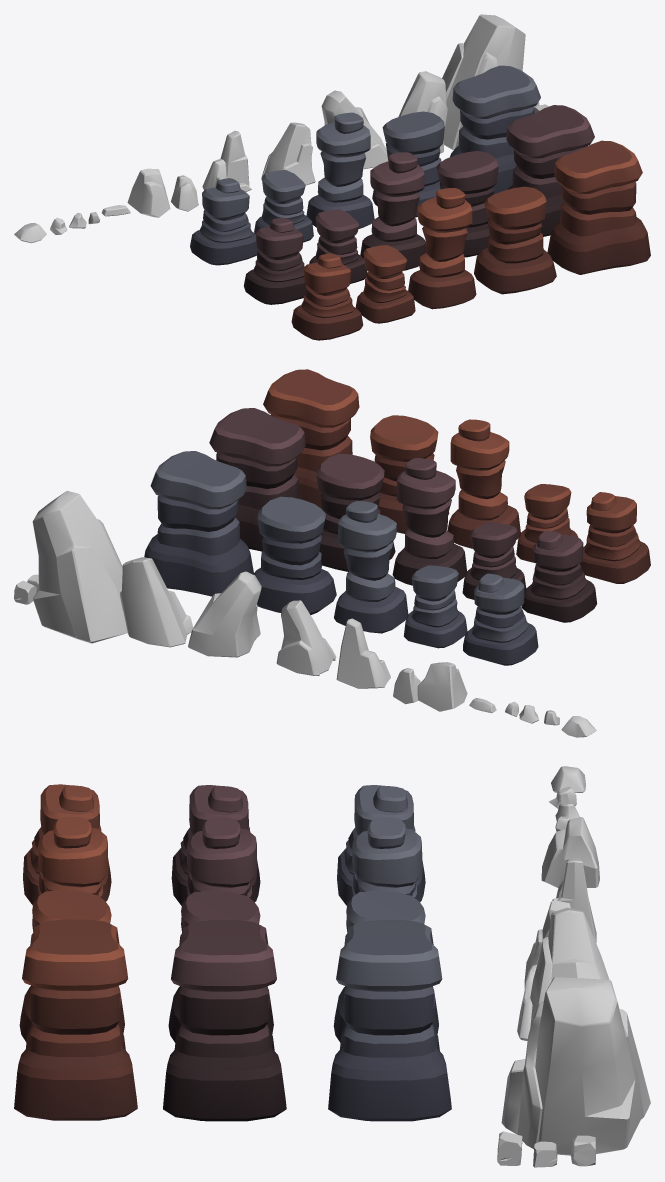
The model's file is RocksPack.fbx.
The picture shows the model from 3 angles, top to bottom: view 1: azimuth 30°, elevation 25°; view 2: azimuth 150°, elevation 25°; view 3: azimuth 270°, elevation 25°; orthographic projection. The views are drawn at different scales.
Visible parts, largest first — view 1: rock_big_B_5, rock_big_B_4, rock_big_B_gray_5, rock_big_B_3, rock_big_B_dark_5, rock_big_B_gray_3, rock_big_B_dark_3, rock_big_3, rock_big_B_1, rock_big_B_gray_1, Cube.010, rock_big_B_dark_4 (+10 smaller); view 2: rock_big_B_gray_5, rock_big_3, rock_big_B_dark_5, rock_big_B_gray_4, rock_big_B_gray_3, rock_big_B_5, rock_big_B_dark_3, rock_big_B_3, rock_big_B_gray_1, Cube.010, rock_big_B_1, rock_big_2 (+11 smaller); view 3: rock_big_B_dark_5, rock_big_B_gray_5, rock_big_B_5, rock_big_3, rock_big_1, rock_big_B_gray_3, rock_big_B_dark_3, rock_big_B_3, rock_big_B_gray_1, rock_big_B_1, Cube.010, rock_big_B_4 (+9 smaller).
Part boxes in pixels (x1,y1,x2,y2): rock_big_B_5: (547,140,650,274); rock_big_B_4: (474,186,556,294); rock_big_B_gray_5: (450,65,540,194); rock_big_B_3: (408,188,476,309); rock_big_B_dark_5: (506,105,594,236); rock_big_B_gray_3: (306,112,374,228); rock_big_B_dark_3: (360,152,426,270); rock_big_3: (442,14,525,149); rock_big_B_1: (291,253,363,340); rock_big_B_gray_1: (190,178,257,265); Cube.010: (244,217,305,304); rock_big_B_dark_4: (436,151,498,257); rock_big_B_gray_5: (144,451,253,596); rock_big_3: (32,490,127,643); rock_big_B_dark_5: (209,408,305,551); rock_big_B_gray_4: (253,496,336,614); rock_big_B_gray_3: (334,501,408,633); rock_big_B_5: (263,369,359,508); rock_big_B_dark_3: (392,458,466,585); rock_big_B_3: (447,419,520,548); rock_big_B_gray_1: (463,573,538,665); Cube.010: (521,530,597,622); rock_big_B_1: (580,492,650,583); rock_big_2: (120,557,193,647); rock_big_B_dark_5: (163,920,286,1121); rock_big_B_gray_5: (328,920,451,1121); rock_big_B_5: (14,919,137,1120); rock_big_3: (501,977,650,1155); rock_big_1: (517,907,609,1040); rock_big_B_gray_3: (344,817,422,945); rock_big_B_dark_3: (179,817,256,945); rock_big_B_3: (30,817,108,944); rock_big_B_gray_1: (337,785,425,905); rock_big_B_1: (23,784,111,905); Cube.010: (171,785,260,905); rock_big_B_4: (19,890,124,1041).
Bounding box in the file's own units: 4104 × 850 × 2811.
